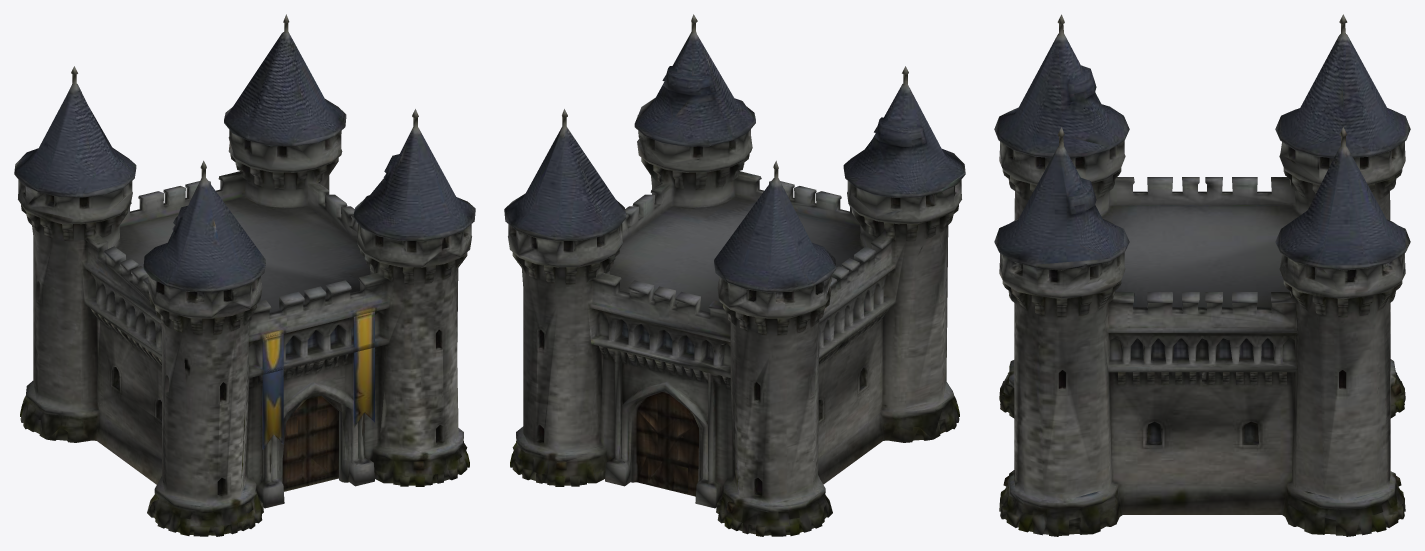
Rendered from medieval-castle.glb.
3 renders of one model, left to right at view 1: azimuth 30°, elevation 25°; view 2: azimuth 150°, elevation 25°; view 3: azimuth 270°, elevation 25°, orthographic. The views are drawn at different scales.
Visible parts, largest first — view 1: tripo_node_db2616eb-6131-45a3-8974-6f71fb925d88; view 2: tripo_node_db2616eb-6131-45a3-8974-6f71fb925d88; view 3: tripo_node_db2616eb-6131-45a3-8974-6f71fb925d88.
Part boxes in pixels (bbox=[...]): tripo_node_db2616eb-6131-45a3-8974-6f71fb925d88: bbox=[14, 14, 475, 536]; tripo_node_db2616eb-6131-45a3-8974-6f71fb925d88: bbox=[504, 14, 965, 536]; tripo_node_db2616eb-6131-45a3-8974-6f71fb925d88: bbox=[994, 14, 1410, 536].
Size of the model in its own units: 0.9355 by 0.998 by 0.9786.
1 material, 1 textured.
